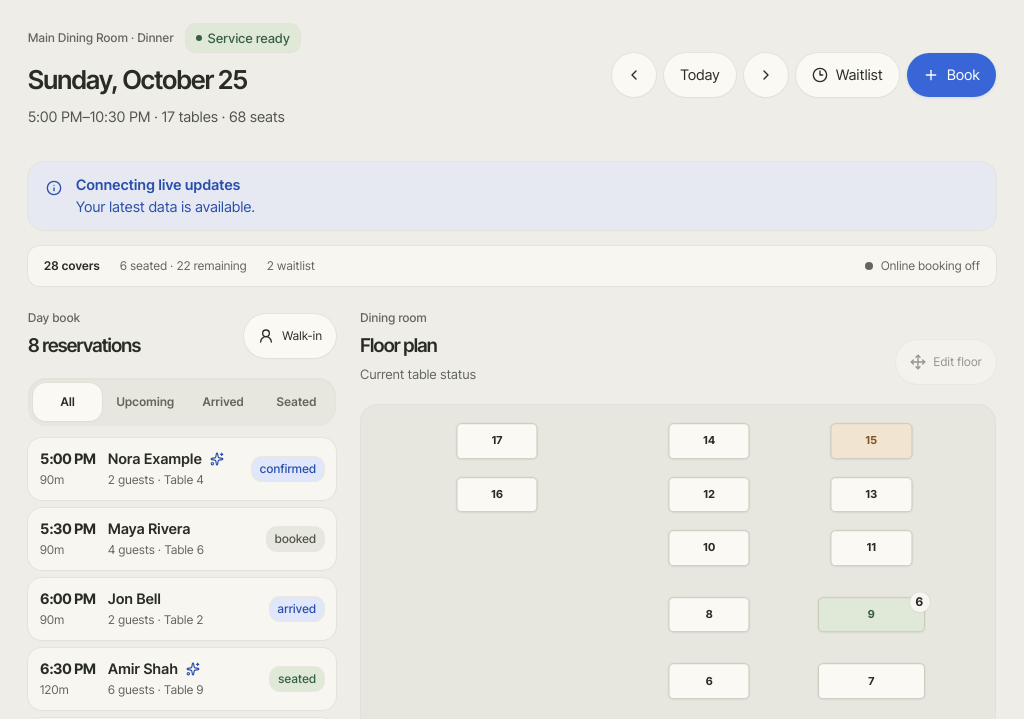
Test: reservation host capability affordances › keeps external-source reservations read-only under the one-writer gate
Step 1. Click the button "5:00 PM 90m Nora Example 2 guests · Table 4 confirmed" → (182, 469), box [28, 438, 336, 500]
(page scrolled)
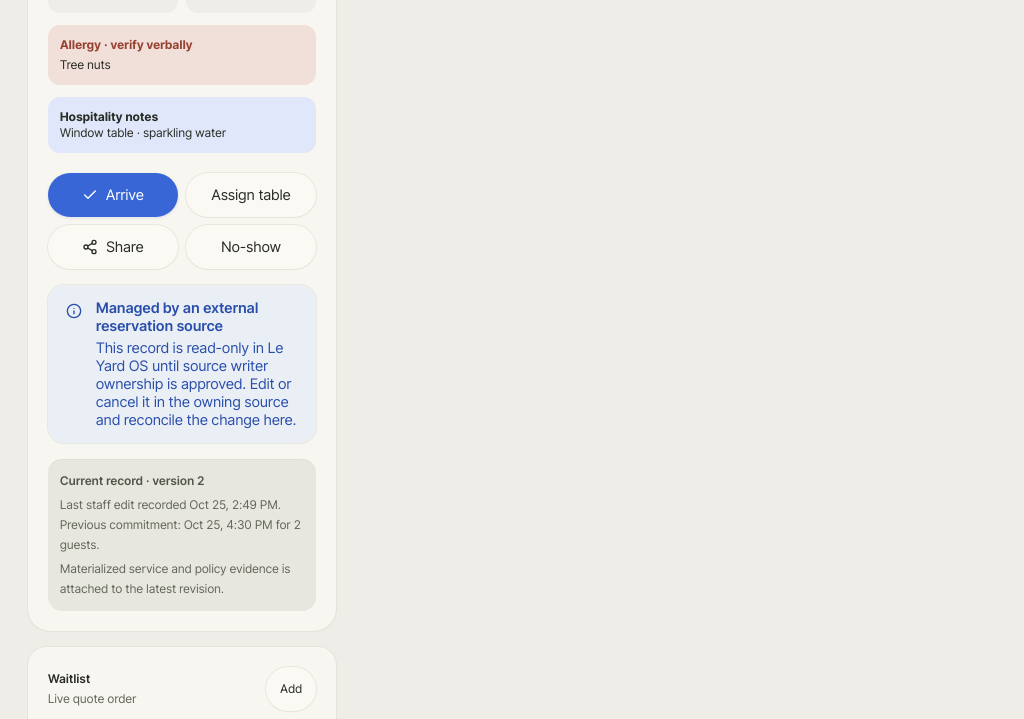
Expected: the text "read-only in Le Yard OS until source writer ownership is approved" is shown, [96, 339, 296, 428]
